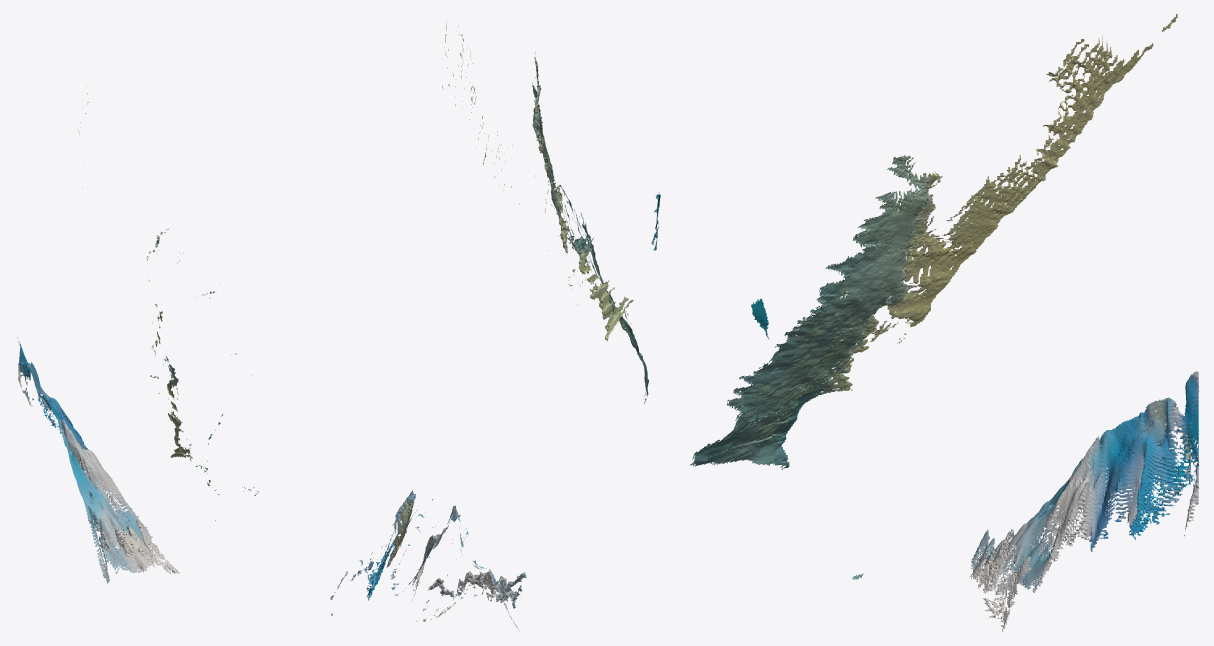
File: hunyuan_scene_001_module_r1_c1.glb
3 renders of one model, left to right at view 1: azimuth 30°, elevation 25°; view 2: azimuth 150°, elevation 25°; view 3: azimuth 270°, elevation 25°, orthographic. The views are drawn at different scales.
Visible parts, largest first — view 1: hunyuan_scene_001_module; view 2: hunyuan_scene_001_module; view 3: hunyuan_scene_001_module.
Boxes of the visible parts, bbox=[...] form: hunyuan_scene_001_module: bbox=[17, 85, 258, 583]; hunyuan_scene_001_module: bbox=[330, 22, 660, 631]; hunyuan_scene_001_module: bbox=[690, 14, 1199, 631].
Bounding box in the file's own units: 3.1 × 19.73 × 15.83.
